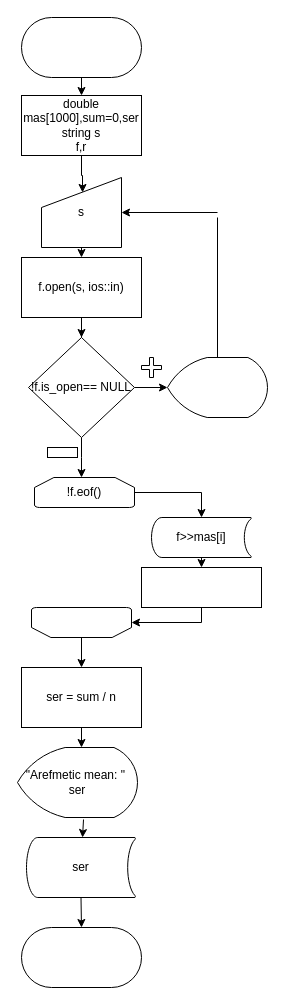
This 285x1005 diagram has some shape labels left out. The centre of each missing label's shape, as x and y in pixels:
"sum=sum+mas[i] n++" goes at point 201,587.
"Кінець" goes at point 81,957.
"Не вдалося зчитати дані" goes at point 217,387.
"Початок" goes at point 81,47.
